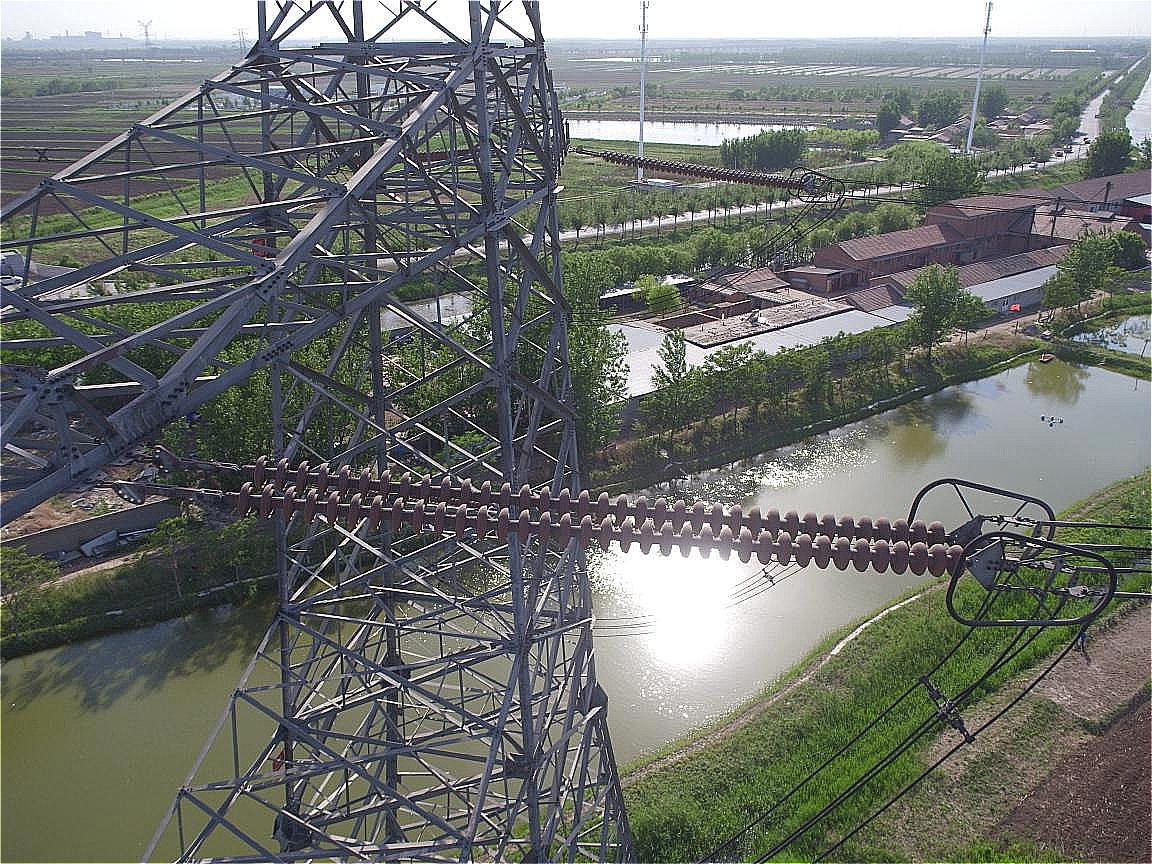insultor1: (240, 453, 966, 575)
insultor2: (602, 148, 812, 194)
